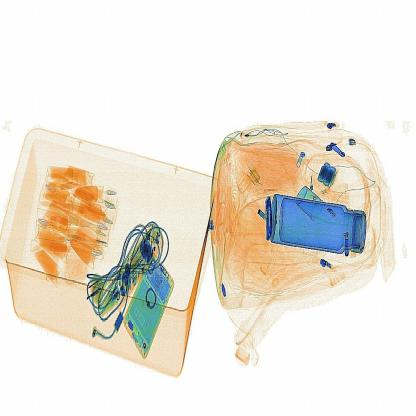knife: (257, 186, 280, 248)
